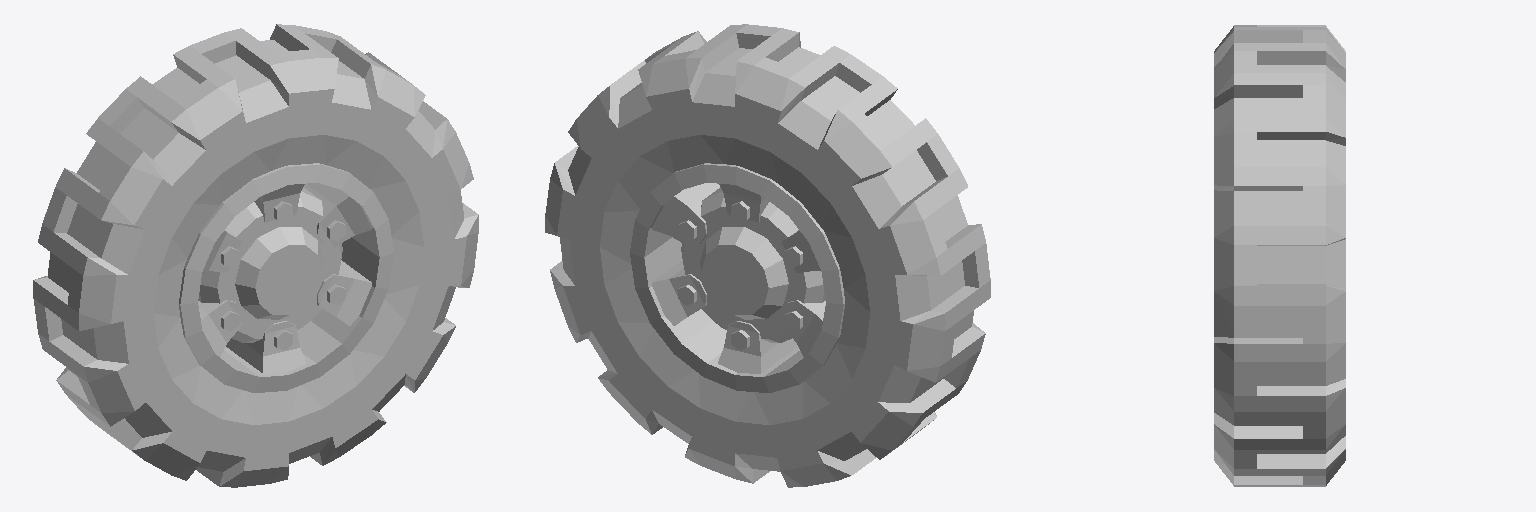
Rendered from fant_offroad_wheel_large_5.obj.
3 renders of one model, left to right at view 1: azimuth 30°, elevation 25°; view 2: azimuth 150°, elevation 25°; view 3: azimuth 270°, elevation 25°, orthographic.
Visible parts, largest first — view 1: fant_wheel_large_2_Mesh; view 2: fant_wheel_large_2_Mesh; view 3: fant_wheel_large_2_Mesh.
Part boxes in pixels (bbox=[...]): fant_wheel_large_2_Mesh: bbox=[33, 24, 478, 487]; fant_wheel_large_2_Mesh: bbox=[545, 24, 990, 487]; fant_wheel_large_2_Mesh: bbox=[1214, 25, 1345, 486].
Size of the model in its own units: 7.03 by 7.03 by 2.01.